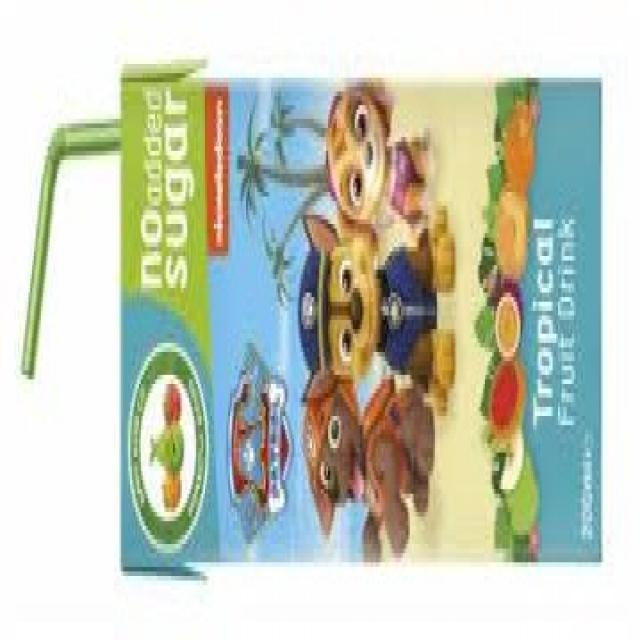non_white_jug: (119, 53, 604, 570)
